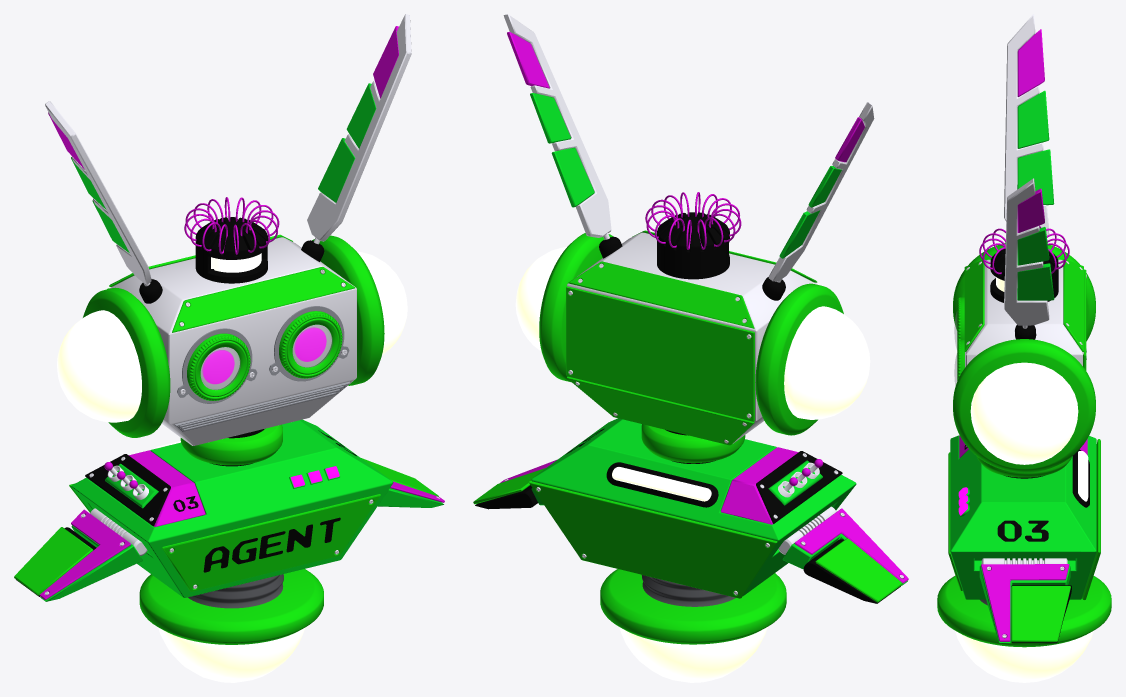
File: bee_bot12_green.glb
The picture shows the model from 3 angles, left to right: view 1: azimuth 30°, elevation 25°; view 2: azimuth 150°, elevation 25°; view 3: azimuth 270°, elevation 25°; orthographic projection. The views are drawn at different scales.
Parts seen in each view (by area): view 1: Green_body, Green_wing_right, Green_wing_left; view 2: Green_body, Green_wing_right, Green_wing_left; view 3: Green_body, Green_wing_left.
Part boxes in pixels (left/top/right/bottom): Green_body: left=45, top=14, right=411, bottom=682; Green_wing_right: left=14, top=508, right=147, bottom=601; Green_wing_left: left=361, top=458, right=444, bottom=507; Green_body: left=503, top=14, right=874, bottom=682; Green_wing_right: left=778, top=506, right=908, bottom=603; Green_wing_left: left=473, top=459, right=557, bottom=509; Green_body: left=937, top=14, right=1111, bottom=682; Green_wing_left: left=979, top=558, right=1071, bottom=643.
Size of the model in its own units: 0.6985 by 1.02 by 0.278.
